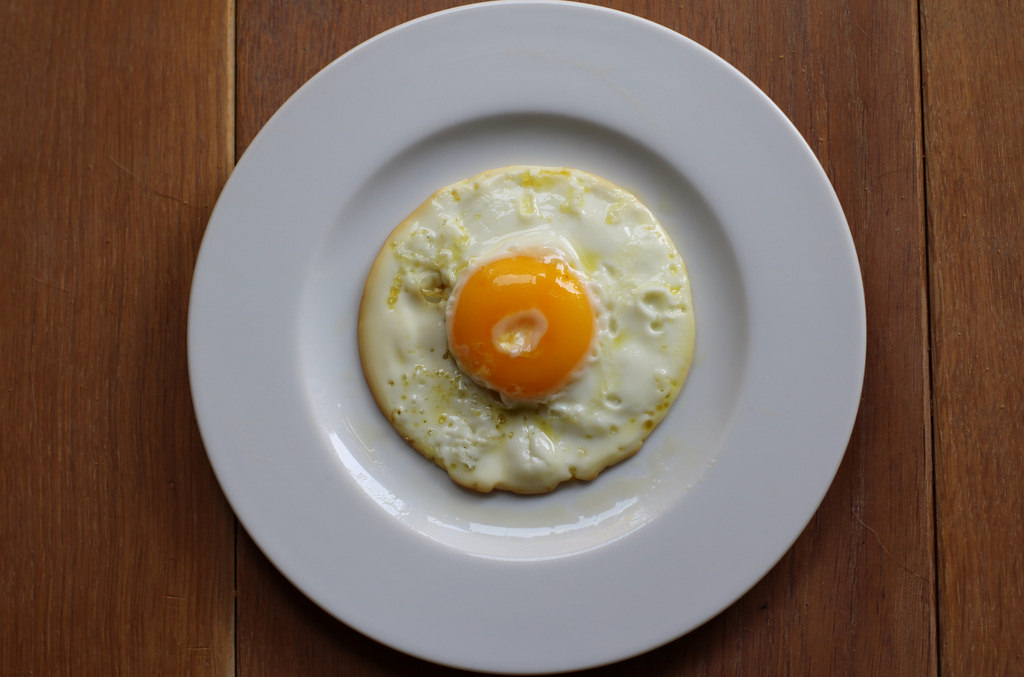fried egg: (359, 160, 701, 501)
